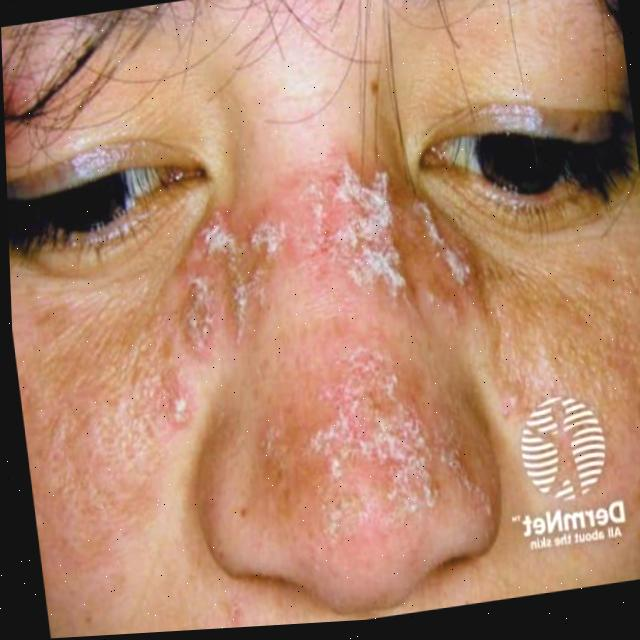lupus-detected: (93, 81, 547, 599)
